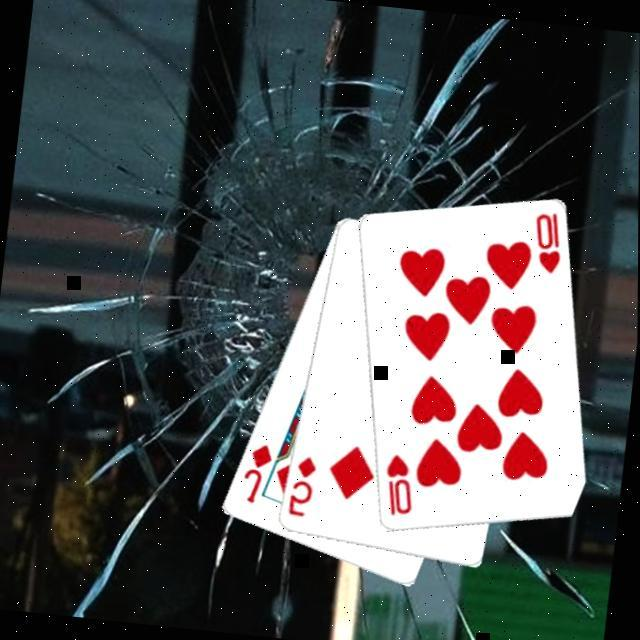10H: (376, 450, 418, 520), (524, 209, 566, 278)
5D: (281, 452, 318, 522)
JD: (234, 439, 274, 508)
